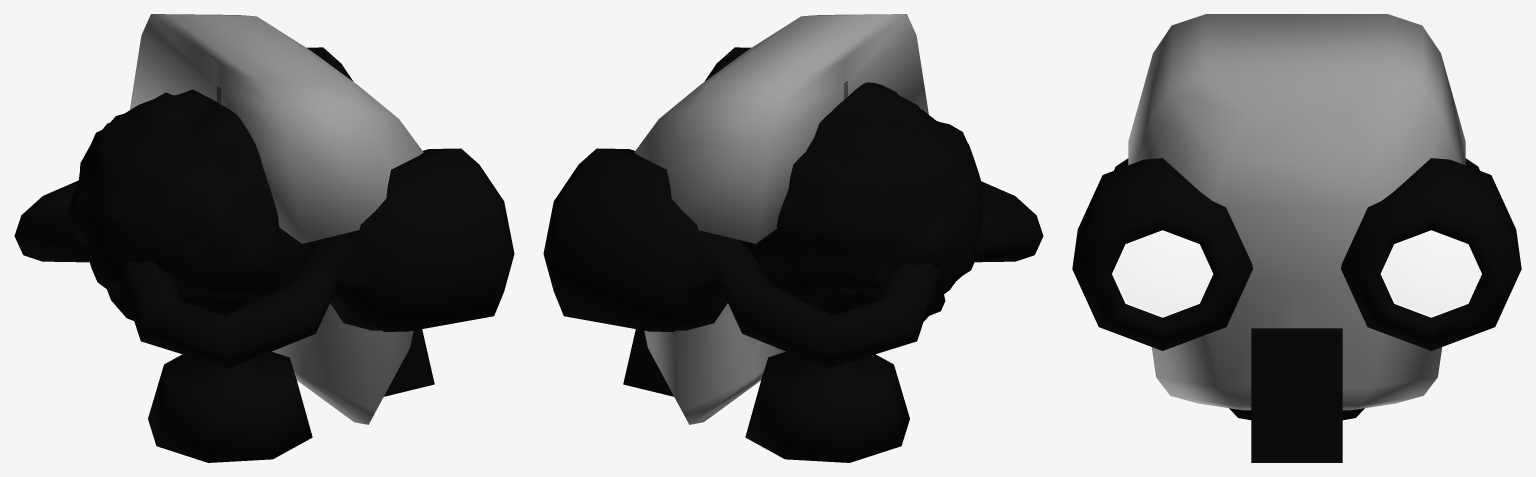
The model's file is HeadStarwars.glb.
3 views of the same model, side by side, from view 1: azimuth 30°, elevation 25°; view 2: azimuth 150°, elevation 25°; view 3: azimuth 270°, elevation 25° (orthographic). The views are drawn at different scales.
Parts seen in each view (by area): view 1: Head_03; view 2: Head_03; view 3: Head_03.
Part boxes in pixels (x1,y1,x2,y2): Head_03: (14,14,514,462); Head_03: (543,14,1043,462); Head_03: (1072,14,1521,462).
Bounding box in the file's own units: 21.19 × 22.92 × 25.08.
2 materials, 1 textured.
